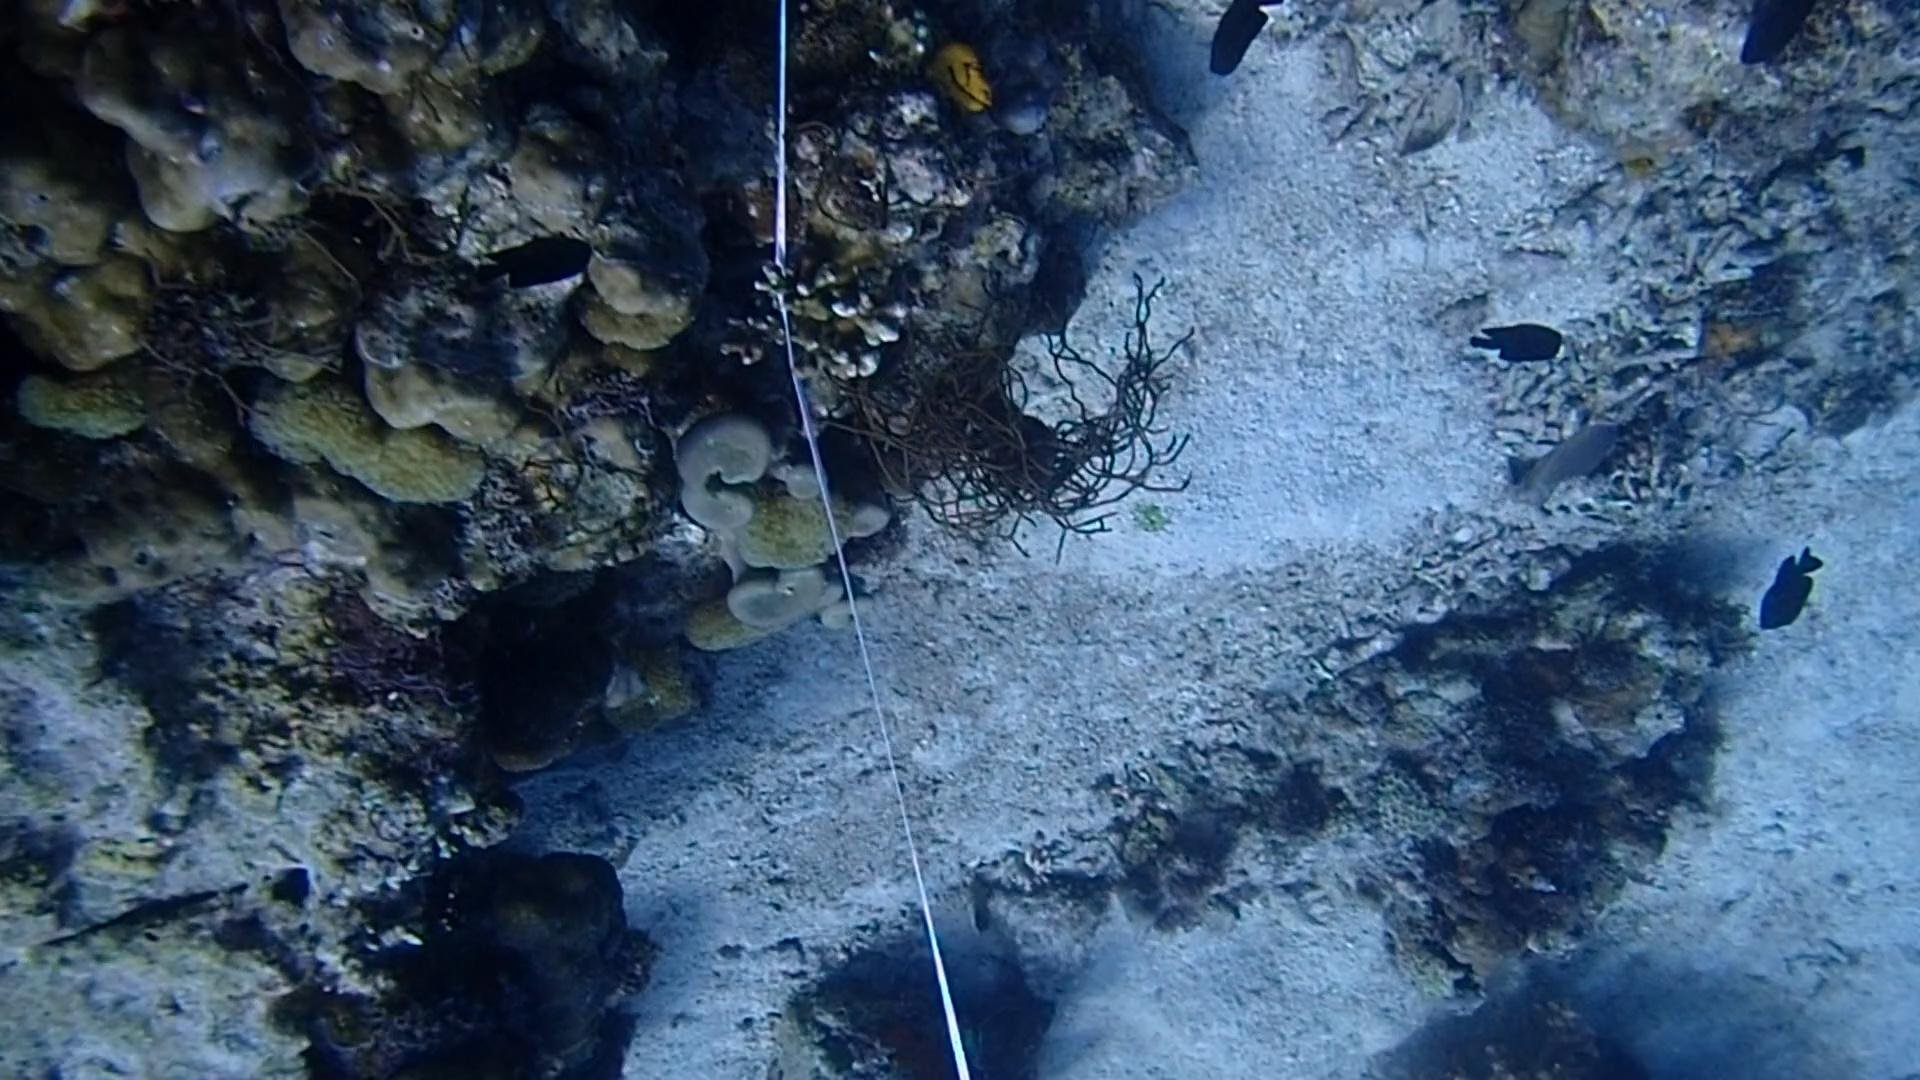Dark Fish: (1460, 302, 1578, 384), (1185, 0, 1278, 91), (1519, 414, 1615, 500), (1714, 0, 1817, 76), (1746, 538, 1821, 642)
